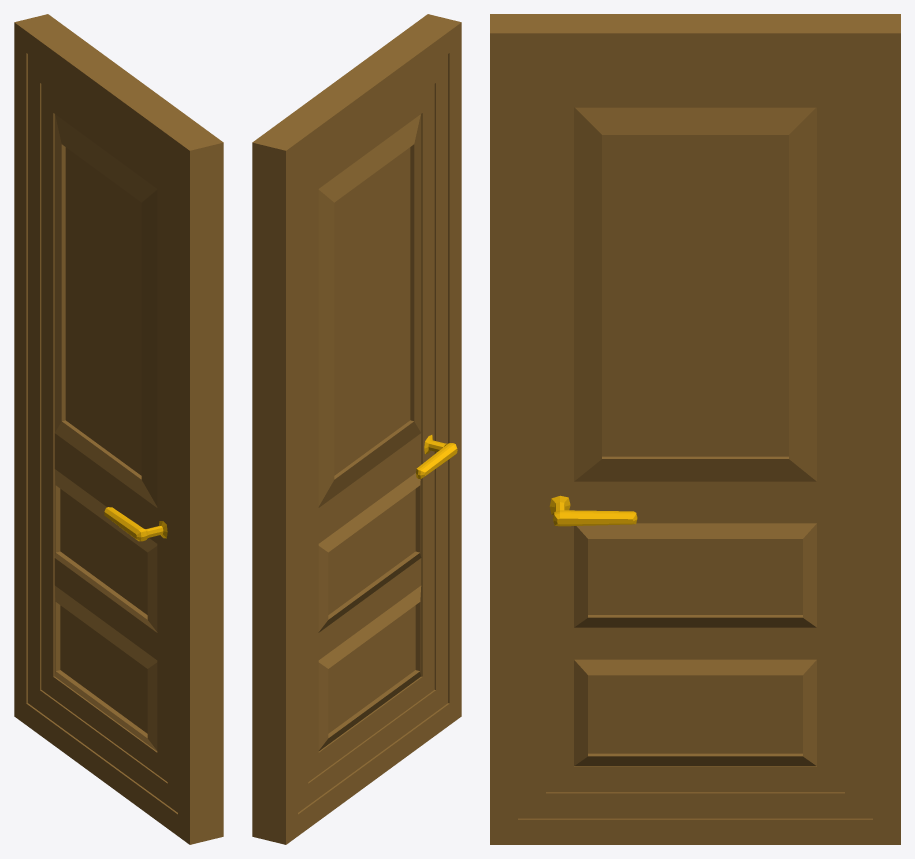
The model's file is door.glb.
3 views of the same model, side by side, from view 1: azimuth 30°, elevation 25°; view 2: azimuth 150°, elevation 25°; view 3: azimuth 270°, elevation 25° (orthographic). The views are drawn at different scales.
Visible parts, largest first — view 1: door; view 2: door; view 3: door.
Part boxes in pixels (x1=…): door: x1=14, y1=14, x2=223, y2=844; door: x1=252, y1=14, x2=461, y2=844; door: x1=490, y1=14, x2=900, y2=844.
Size of the model in its own units: 0.7983 by 6.4 by 2.93.
